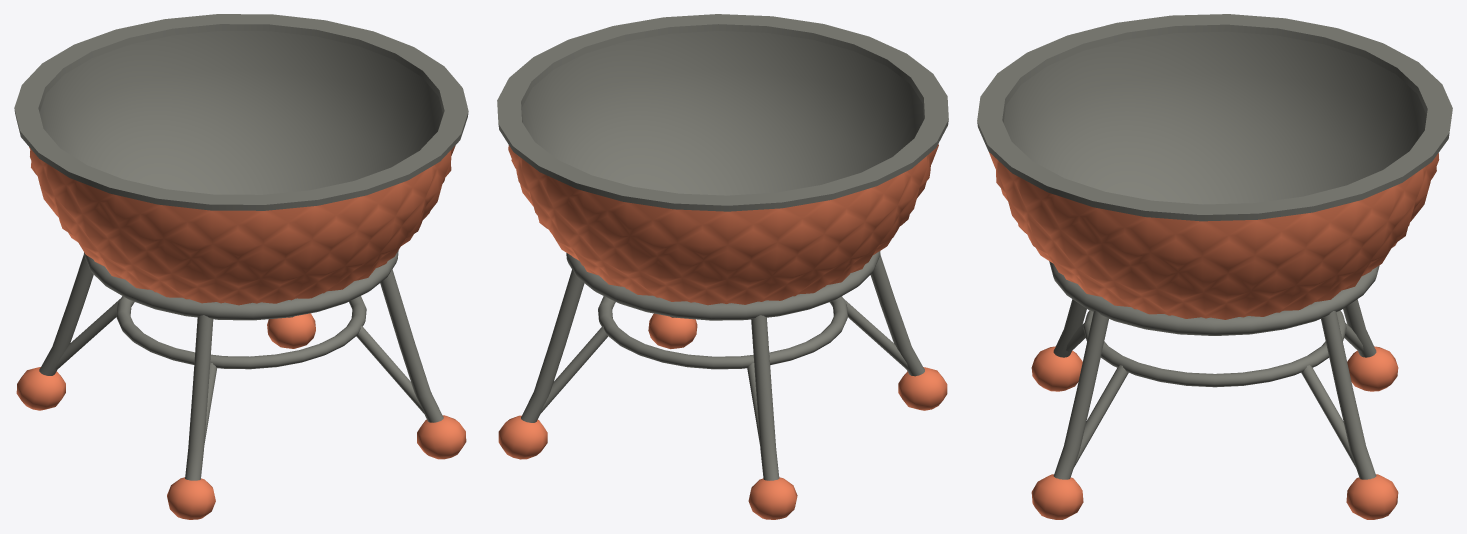
Rendered from CA_186_round_funny_chest.glb.
3 views of the same model, side by side, from view 1: azimuth 30°, elevation 25°; view 2: azimuth 150°, elevation 25°; view 3: azimuth 270°, elevation 25° (orthographic). The views are drawn at different scales.
Visible parts, largest first — view 1: bottom_part, legs, leg_balls; view 2: bottom_part, legs, leg_balls; view 3: bottom_part, legs, leg_balls.
Part boxes in pixels (x1=…): bottom_part: x1=14, y1=14, x2=468, y2=305; legs: x1=39, y1=250, x2=443, y2=480; leg_balls: x1=16, y1=313, x2=466, y2=519; bottom_part: x1=497, y1=14, x2=948, y2=305; legs: x1=521, y1=251, x2=924, y2=480; leg_balls: x1=498, y1=313, x2=947, y2=519; bottom_part: x1=977, y1=14, x2=1452, y2=319; legs: x1=1049, y1=261, x2=1379, y2=479; leg_balls: x1=1031, y1=346, x2=1398, y2=519.
Size of the model in its own units: 1.44 by 1.13 by 1.44.
